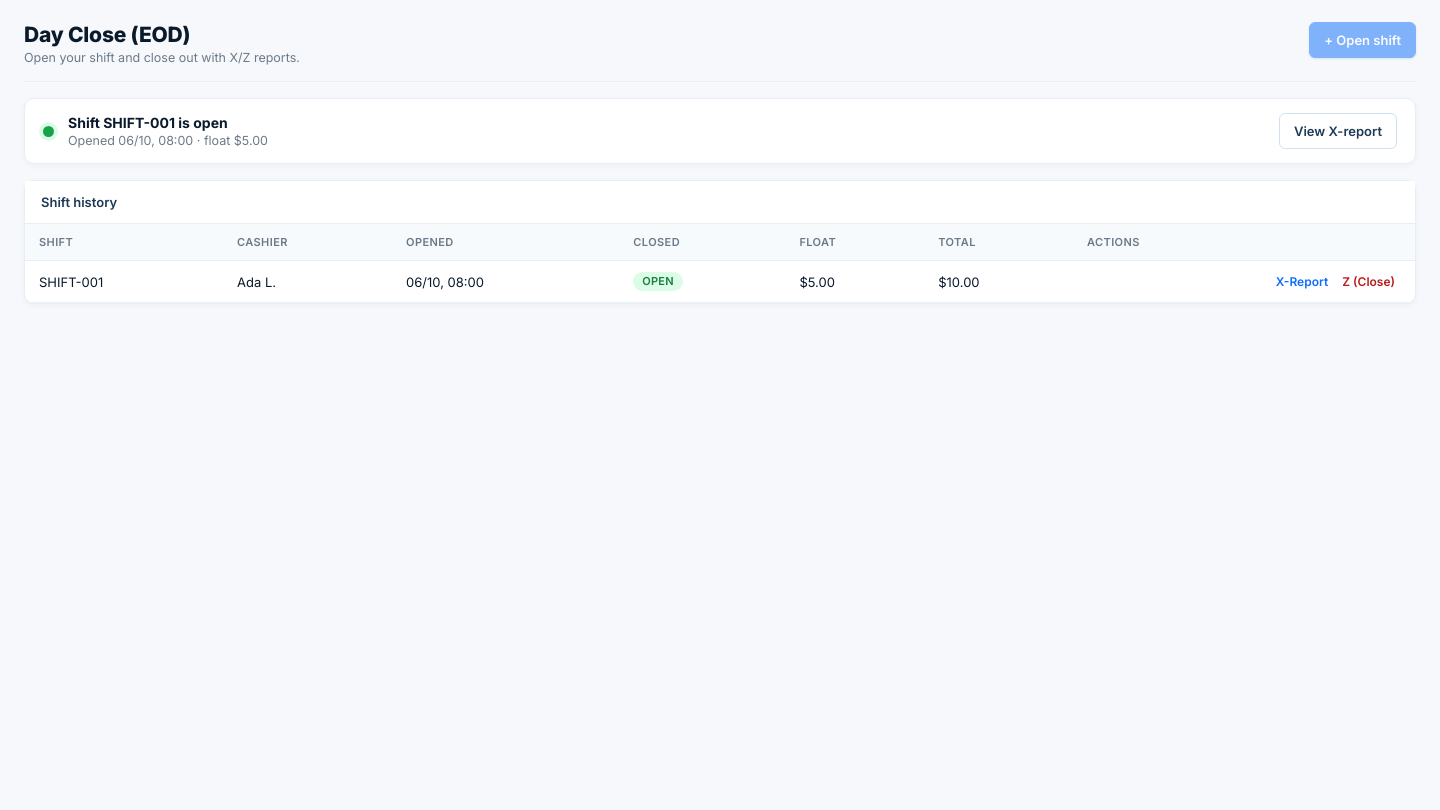
EodPage › renders the X-report modal with the fetched report
Click the button "View X-report" at (1338, 131), box [1279,113,1397,149]
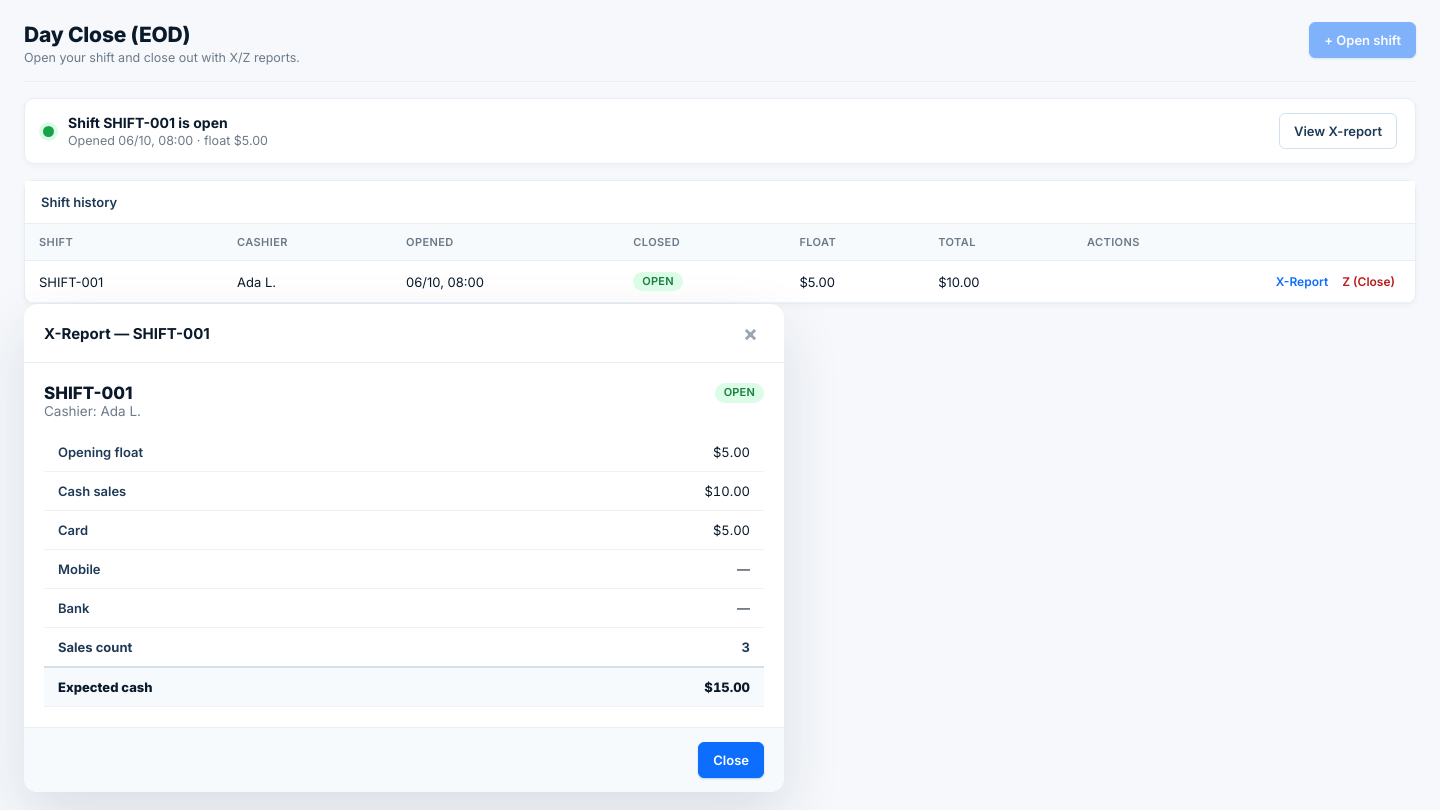
Check: the text "Sales count" is shown, box [44,628,494,667]
Check: the text "3" is shown, box [494,628,764,667]
